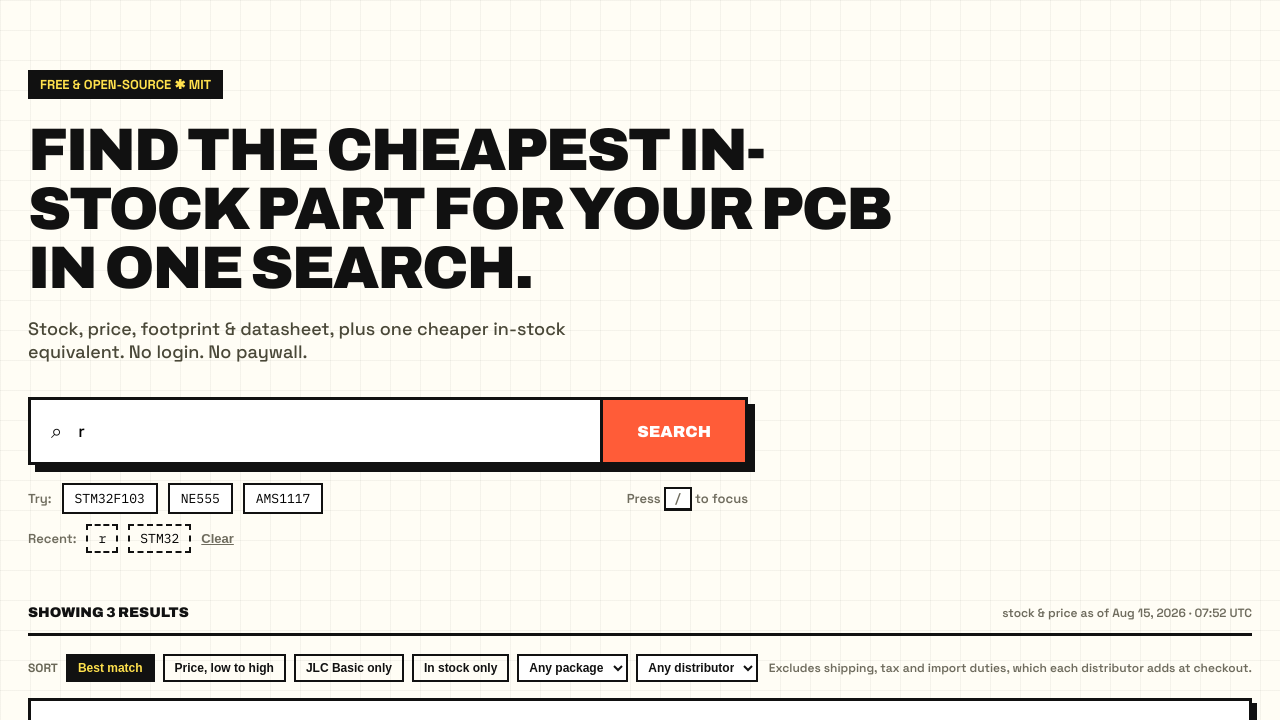
Test: filters the page by stock, package and distributor
Click the button "In stock only" at point(461, 668), box [412, 654, 509, 682]
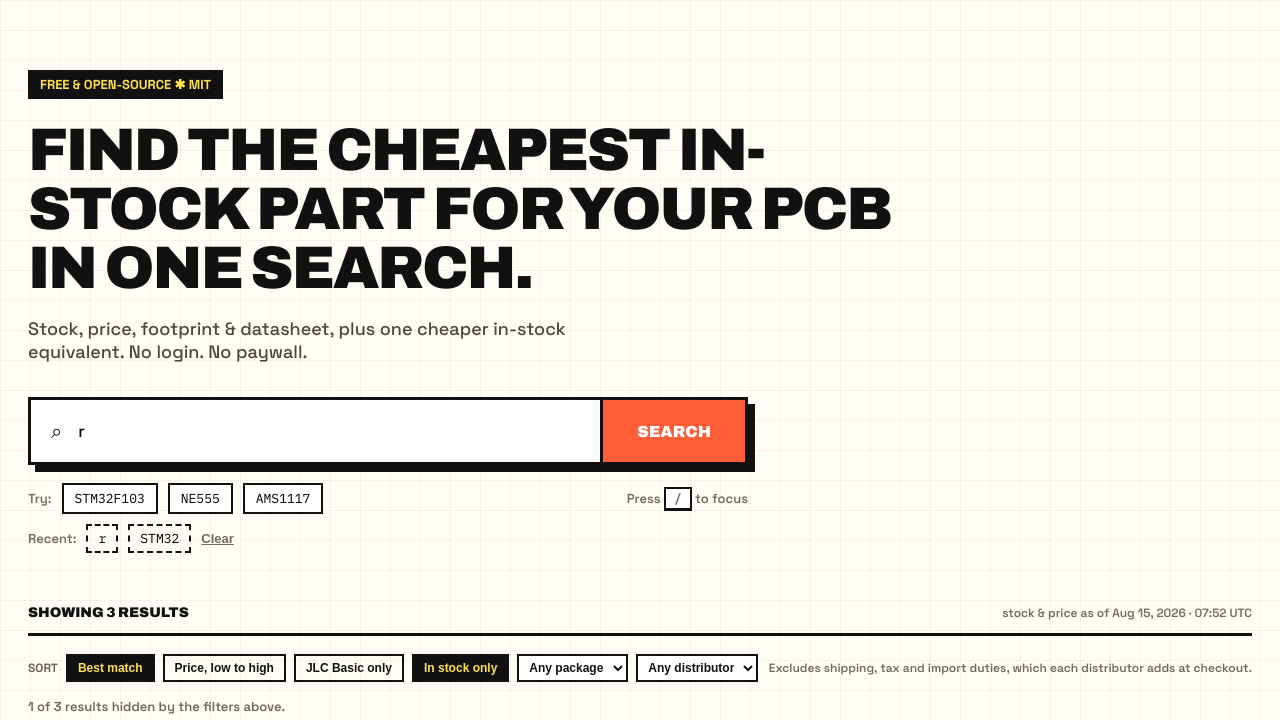
Now the text "1 of 3 results hidden by the filters above." is shown, box [28, 698, 285, 715]
Select "0603" in the dropdown named "Package" at point(573, 668), box [517, 654, 628, 682]
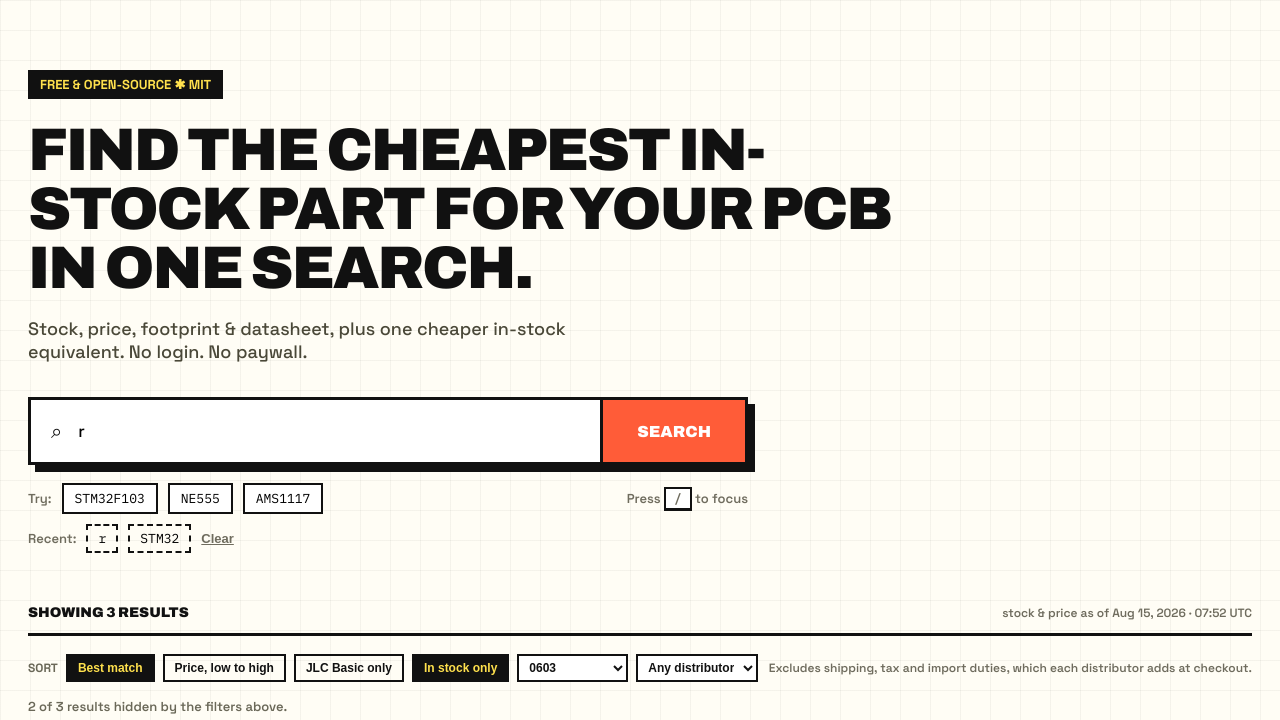
Select "LCSC" in the dropdown named "Distributor" at point(697, 668), box [636, 654, 758, 682]
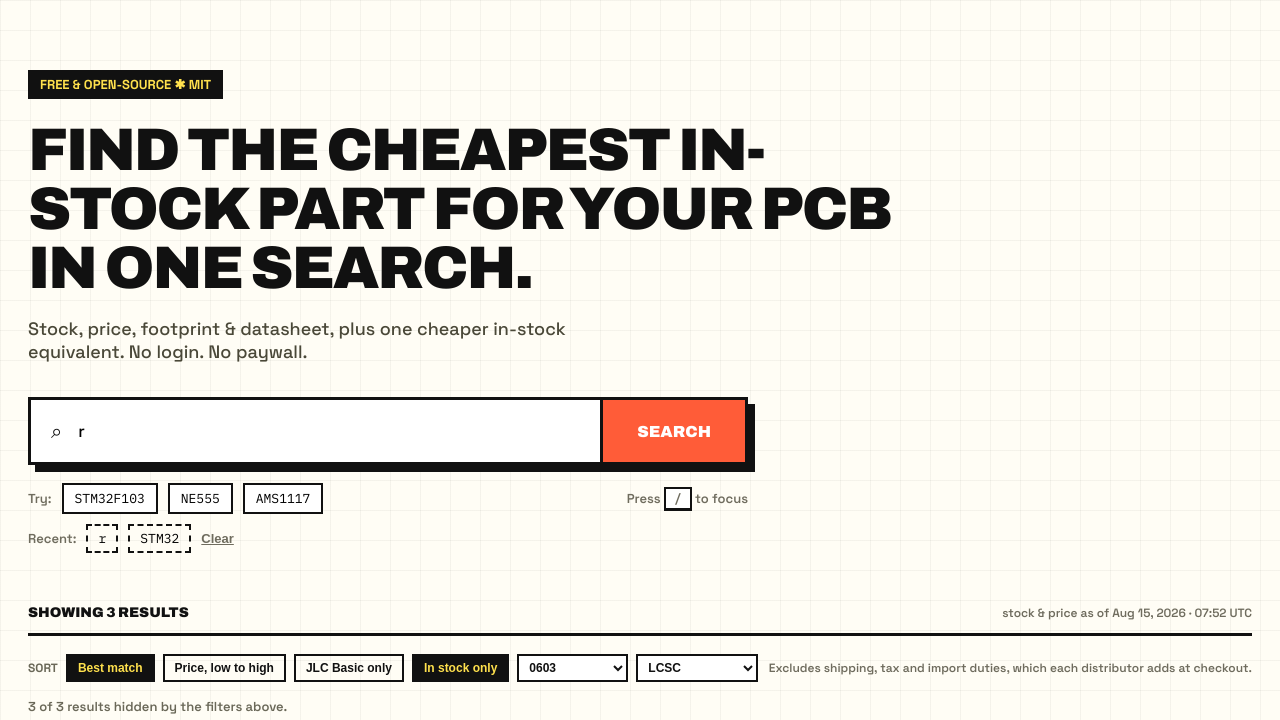
Now the text "3 of 3 results hidden by the filters above." is shown, box [28, 698, 287, 715]
